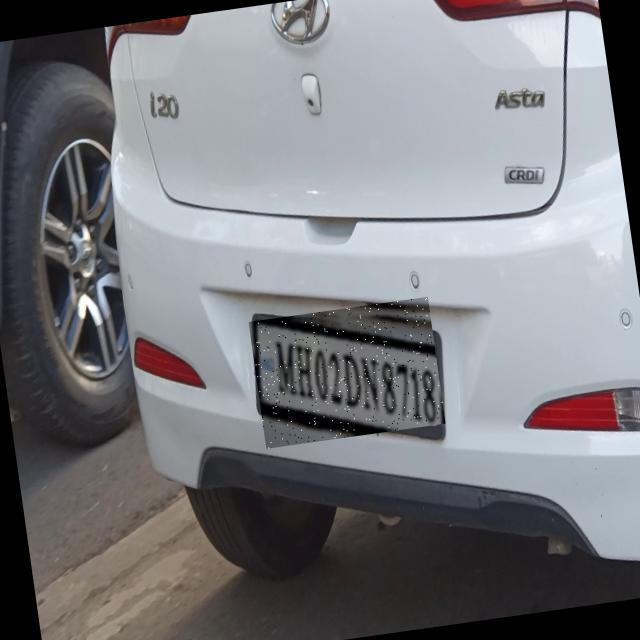Plate: (250, 298, 447, 450)
